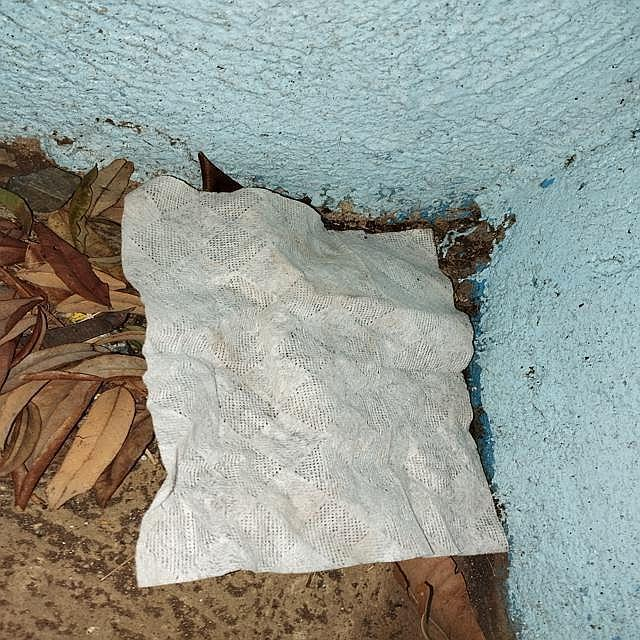Biodegradable: (123, 172, 513, 588)
